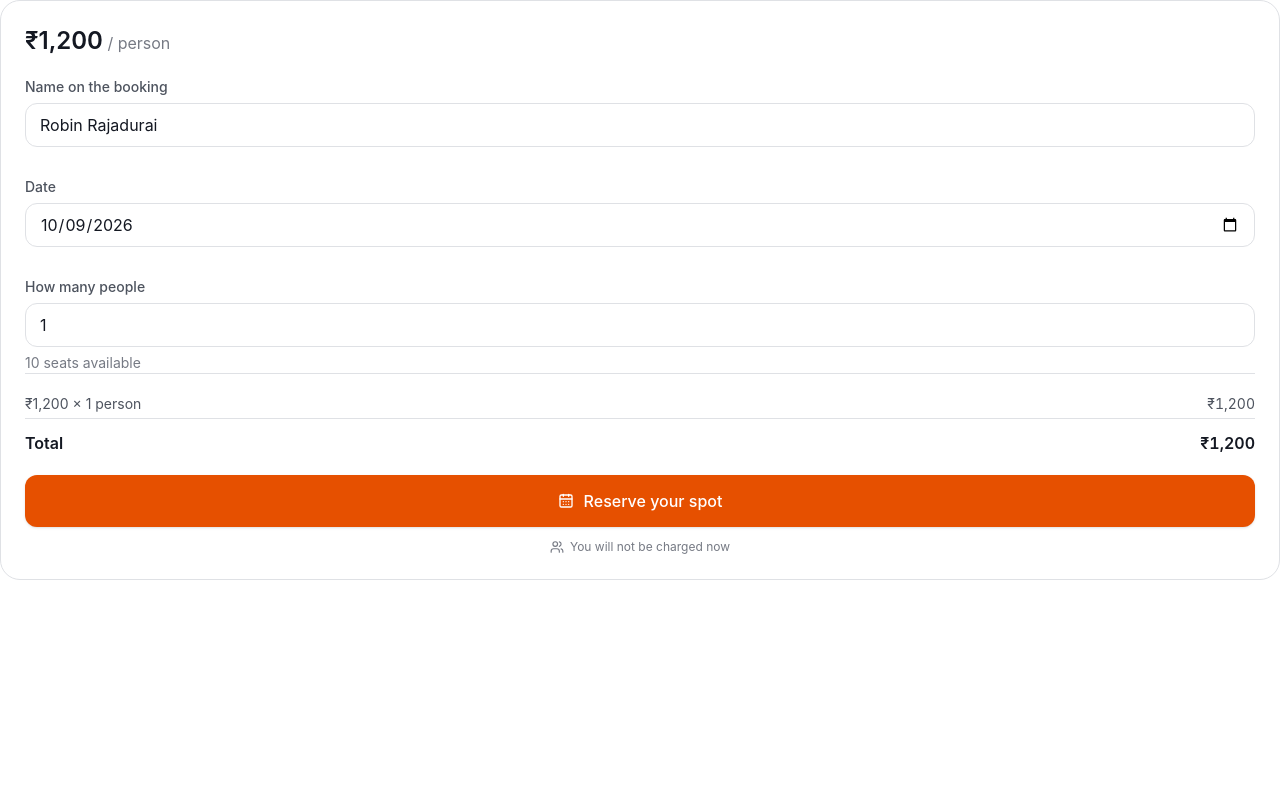
when signed in › shows the server's reason when the adventure sells out mid-booking
Expected: the date field labelled "Date" is shown, [25,203,1255,247]
Click the button "Reserve your spot" at (640, 501), box [25,475,1255,527]
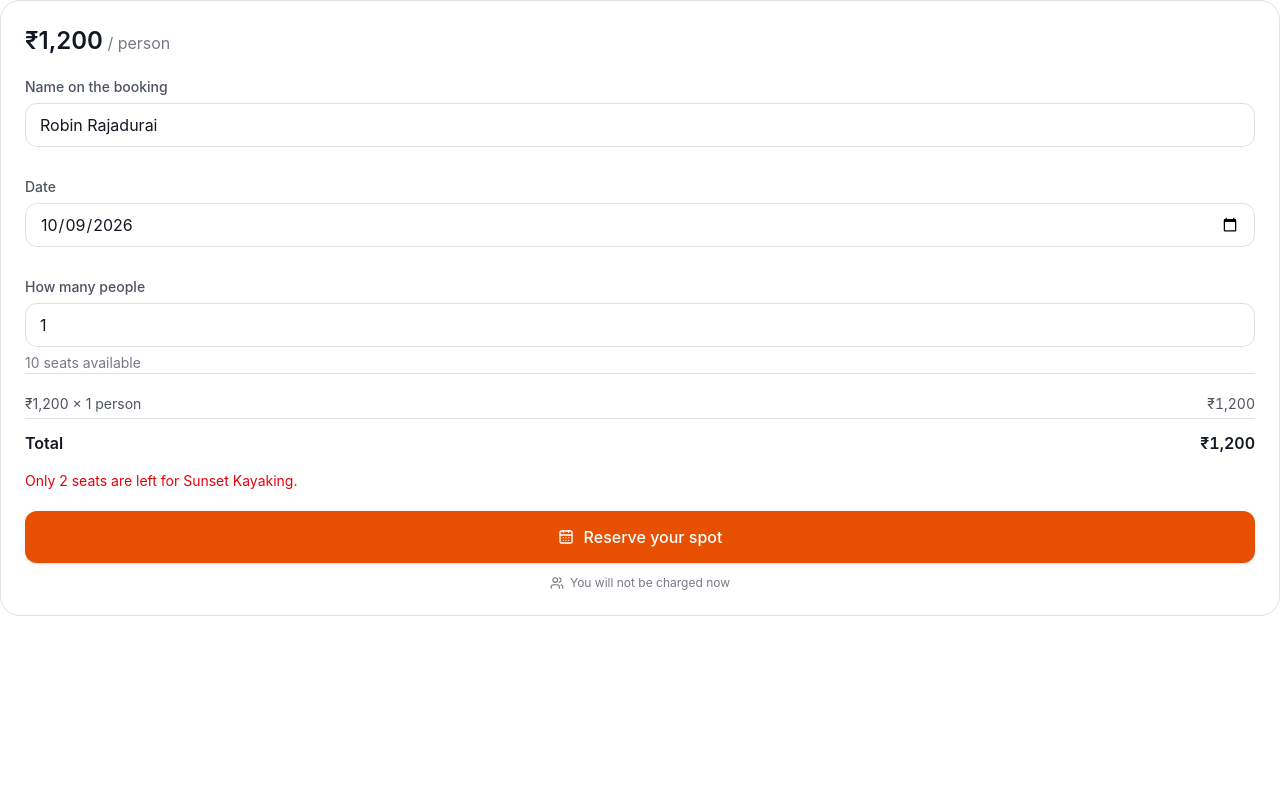
Now the text "Only 2 seats are left for Sunset Kayaking." is shown, box [25,472,298,489]
